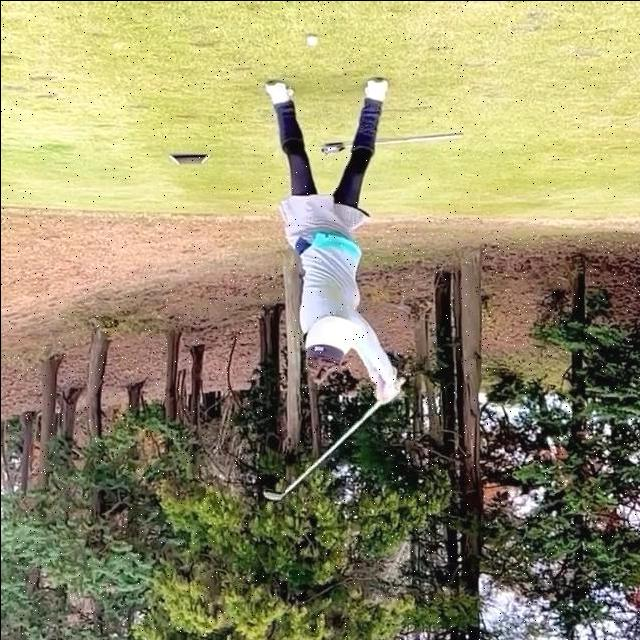ClubHandle: (263, 375, 405, 500)
ClubHead: (262, 489, 282, 501)
GolfBall: (305, 35, 317, 45)
